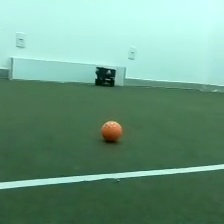ball: (98, 116, 124, 145)
goal: (8, 54, 127, 88)
robot: (93, 64, 117, 87)
